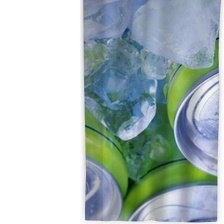can: (158, 34, 224, 182), (107, 149, 218, 222), (83, 103, 128, 224)
